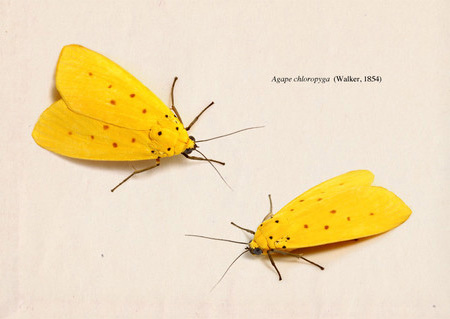Agape chloropyga: (27, 41, 271, 196), (177, 169, 414, 289)
moth: (29, 43, 273, 198), (179, 171, 416, 291)
